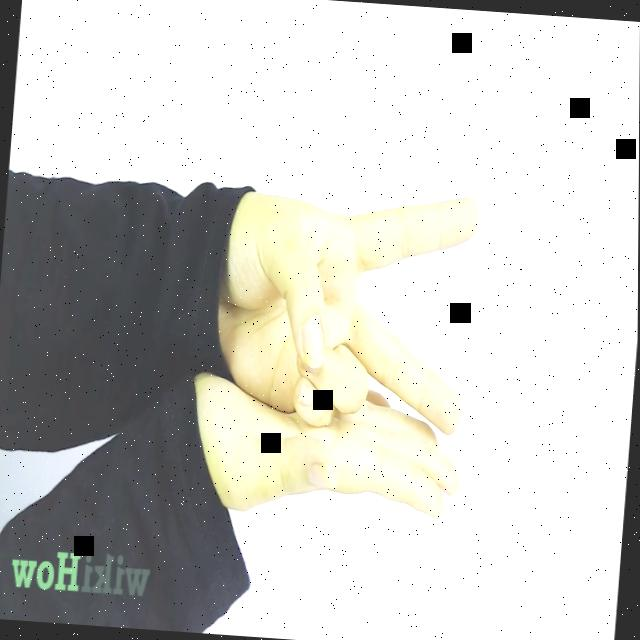Scissors: (213, 178, 480, 438)
